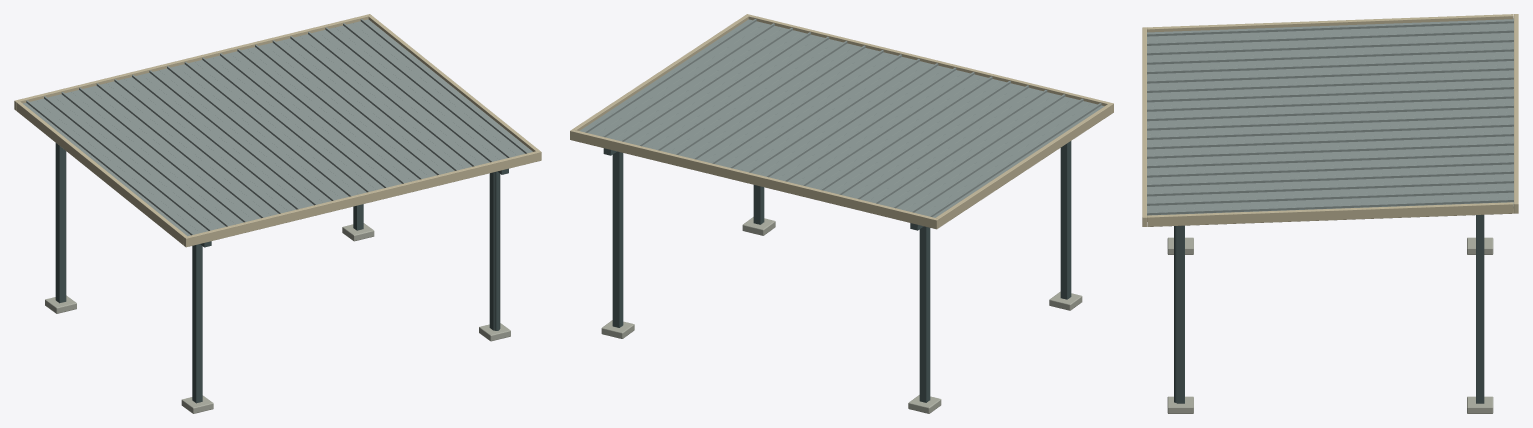
3 renders of one model, left to right at view 1: azimuth 30°, elevation 25°; view 2: azimuth 150°, elevation 25°; view 3: azimuth 270°, elevation 25°, orthographic. The views are drawn at different scales.
Visible parts, largest first — view 1: FASCIA_End, ROOF_Sheet_6, ROOF_Sheet_13, ROOF_Sheet_14, ROOF_Sheet_11, ROOF_Sheet_12, ROOF_Sheet_3, ROOF_Sheet_5, ROOF_Sheet_7, ROOF_Sheet_1, ROOF_Sheet_15, ROOF_Sheet_16 (+36 smaller); view 2: FASCIA_End.001, ROOF_Sheet_17, ROOF_Sheet_2, ROOF_Sheet_7, ROOF_Sheet_4, ROOF_Sheet_15, ROOF_Sheet_12, ROOF_Sheet_9, ROOF_Sheet_1, ROOF_Sheet_6, ROOF_Sheet_10, ROOF_Sheet_13 (+35 smaller); view 3: FASCIA_Side.001, ROOF_Sheet_15, ROOF_Sheet_2, ROOF_Sheet_17, ROOF_Sheet_5, ROOF_Sheet_10, ROOF_Sheet_12, ROOF_Sheet_13, ROOF_Sheet_18, ROOF_Sheet_3, ROOF_Sheet_7, ROOF_Sheet_8 (+37 smaller).
Boxes of the visible parts, x1,y1,x2,y2 form: FASCIA_End: (184, 150, 541, 247); ROOF_Sheet_6: (124, 74, 305, 211); ROOF_Sheet_13: (247, 44, 428, 181); ROOF_Sheet_14: (265, 40, 446, 177); ROOF_Sheet_11: (212, 53, 393, 189); ROOF_Sheet_12: (229, 49, 411, 185); ROOF_Sheet_3: (71, 87, 252, 224); ROOF_Sheet_5: (106, 79, 288, 215); ROOF_Sheet_7: (142, 70, 323, 207); ROOF_Sheet_1: (36, 96, 217, 232); ROOF_Sheet_15: (282, 36, 463, 172); ROOF_Sheet_16: (300, 31, 481, 168); FASCIA_End.001: (570, 129, 938, 229); ROOF_Sheet_17: (614, 27, 800, 143); ROOF_Sheet_2: (886, 94, 1073, 210); ROOF_Sheet_7: (795, 72, 982, 187); ROOF_Sheet_4: (850, 85, 1036, 201); ROOF_Sheet_15: (650, 36, 836, 152); ROOF_Sheet_12: (705, 50, 891, 165); ROOF_Sheet_9: (759, 63, 946, 179); ROOF_Sheet_1: (904, 98, 1091, 214); ROOF_Sheet_6: (814, 76, 1000, 192); ROOF_Sheet_10: (741, 58, 927, 174); ROOF_Sheet_13: (686, 45, 873, 161); FASCIA_Side.001: (1147, 202, 1513, 226); ROOF_Sheet_15: (1147, 159, 1513, 181); ROOF_Sheet_2: (1147, 37, 1513, 59); ROOF_Sheet_17: (1147, 178, 1513, 200); ROOF_Sheet_5: (1147, 65, 1513, 87); ROOF_Sheet_10: (1147, 112, 1513, 134); ROOF_Sheet_12: (1147, 131, 1513, 153); ROOF_Sheet_13: (1147, 140, 1513, 163); ROOF_Sheet_18: (1147, 187, 1513, 210); ROOF_Sheet_3: (1147, 46, 1513, 68); ROOF_Sheet_7: (1147, 84, 1513, 106); ROOF_Sheet_8: (1147, 93, 1513, 115).
Bounding box in the file's own units: 5.86 × 3.17 × 4.9.
